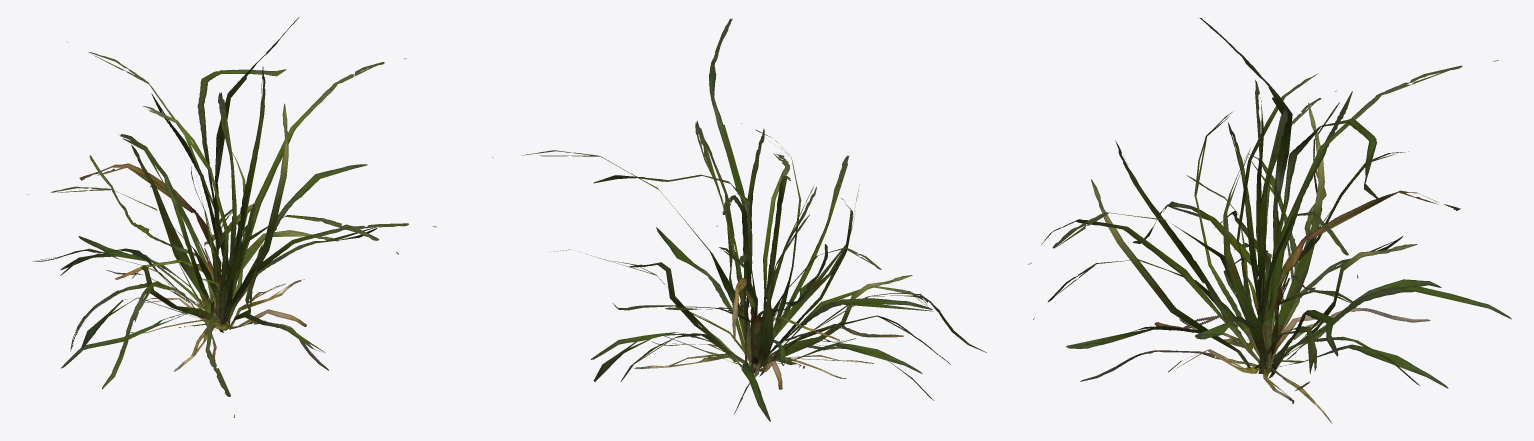
The model's file is grass-clumps.glb.
3 views of the same model, side by side, from view 1: azimuth 30°, elevation 25°; view 2: azimuth 150°, elevation 25°; view 3: azimuth 270°, elevation 25° (orthographic). The views are drawn at different scales.
Parts seen in each view (by area): view 1: GrassClump, GrassClumpLOD; view 2: GrassClump, GrassClumpLOD; view 3: GrassClump, GrassClumpLOD.
Boxes of the visible parts, <box> form: GrassClump: <box>28,17,436,417</box>; GrassClumpLOD: <box>36,17,376,375</box>; GrassClump: <box>492,18,986,421</box>; GrassClumpLOD: <box>539,18,952,421</box>; GrassClump: <box>1028,18,1511,422</box>; GrassClumpLOD: <box>1049,18,1477,423</box>.
Bounding box in the file's own units: 0.1848 × 0.1404 × 0.1623.
Materials: 1 (1 with a texture image).
